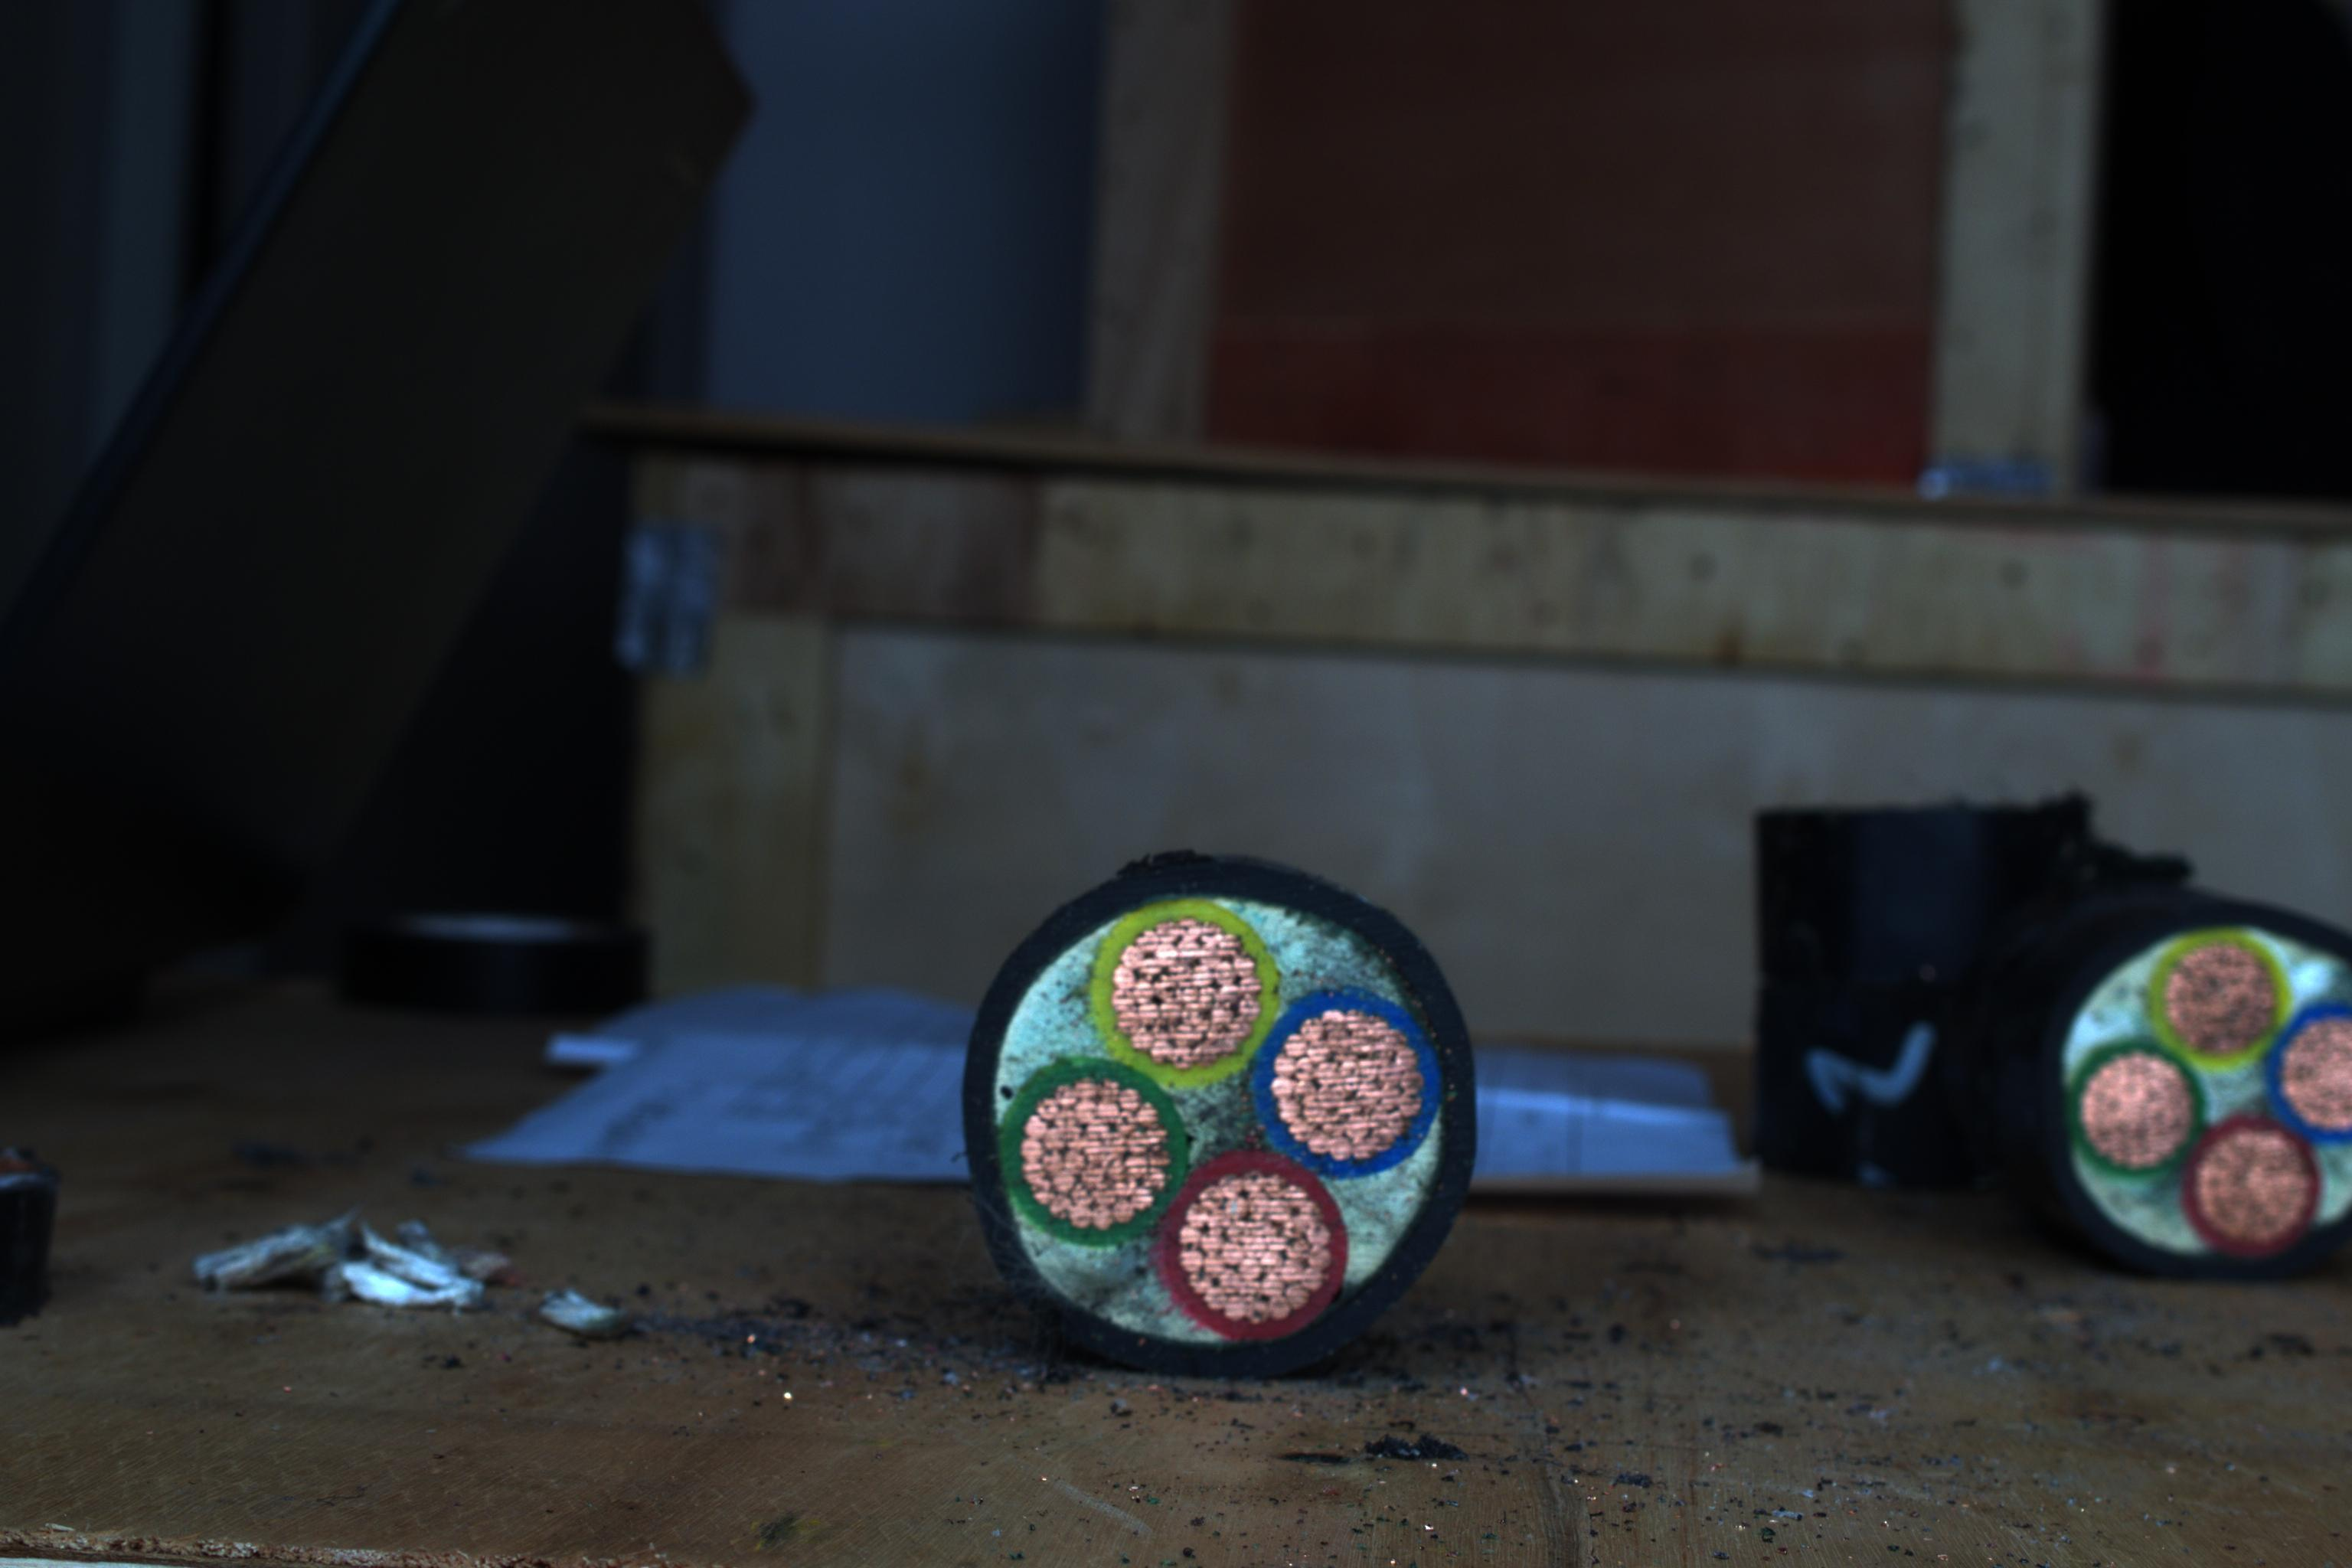YJV_0.6_1kV_4x185: (959, 871, 1468, 1347)
